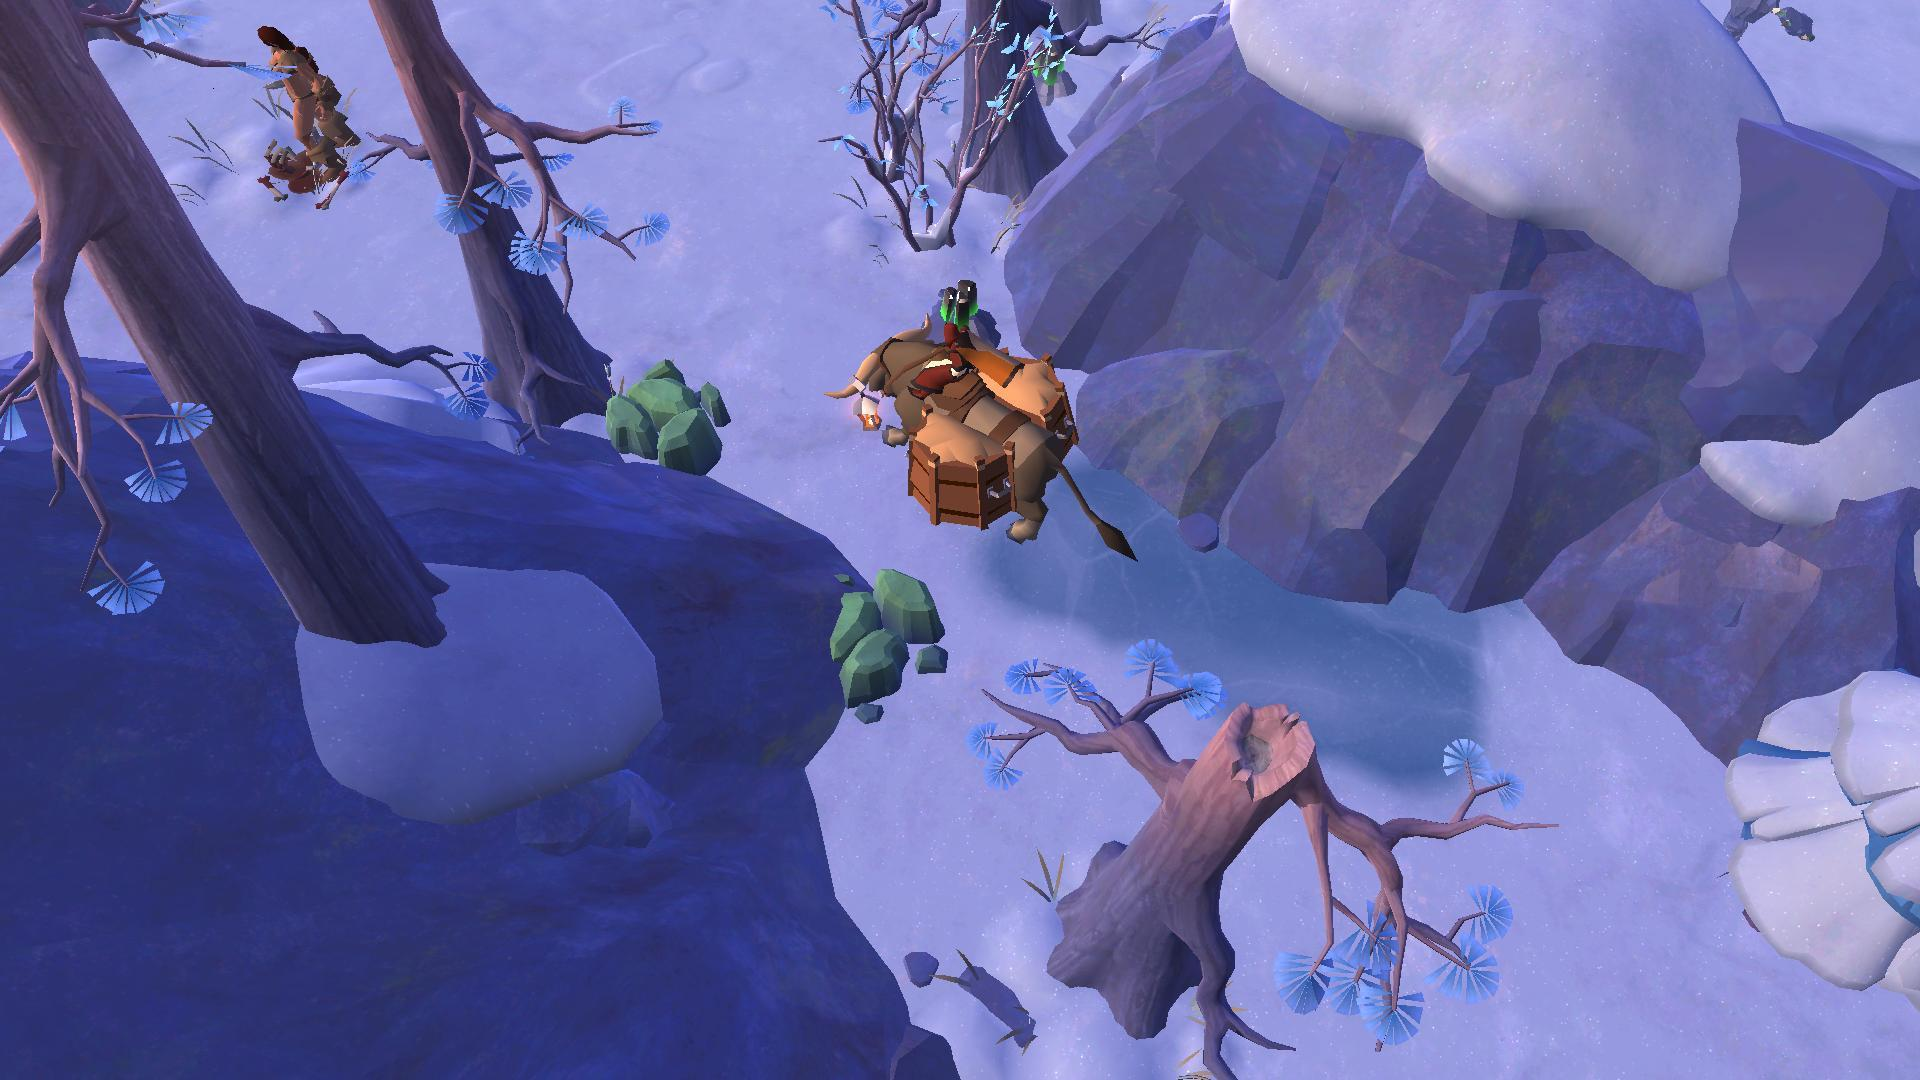enemy_factionKeeper: (251, 20, 345, 166)
ore_t3: (928, 276, 980, 334)
rock_t3: (819, 559, 956, 715), (588, 355, 744, 475)
